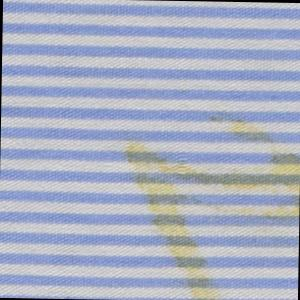Stain: (117, 112, 300, 300)
